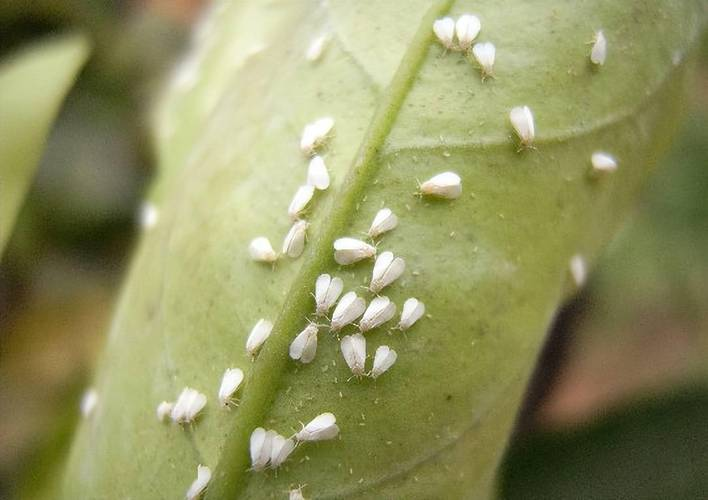Delphacidae: (360, 251, 405, 299), (287, 317, 329, 366), (324, 291, 367, 336), (243, 428, 280, 476), (307, 274, 344, 322), (291, 411, 339, 447), (390, 296, 426, 341), (362, 345, 398, 388), (359, 295, 397, 335), (508, 104, 537, 154), (339, 332, 367, 383), (332, 238, 381, 267), (362, 207, 399, 244), (264, 435, 296, 477), (414, 172, 462, 200), (243, 317, 272, 362), (217, 368, 246, 411), (301, 117, 334, 154), (281, 218, 310, 259), (247, 236, 280, 272), (454, 13, 480, 57), (430, 15, 457, 56), (470, 40, 496, 82), (303, 154, 331, 191), (170, 386, 195, 427), (286, 184, 314, 218), (183, 393, 208, 426), (584, 30, 606, 66), (194, 463, 212, 490), (182, 480, 204, 499)
